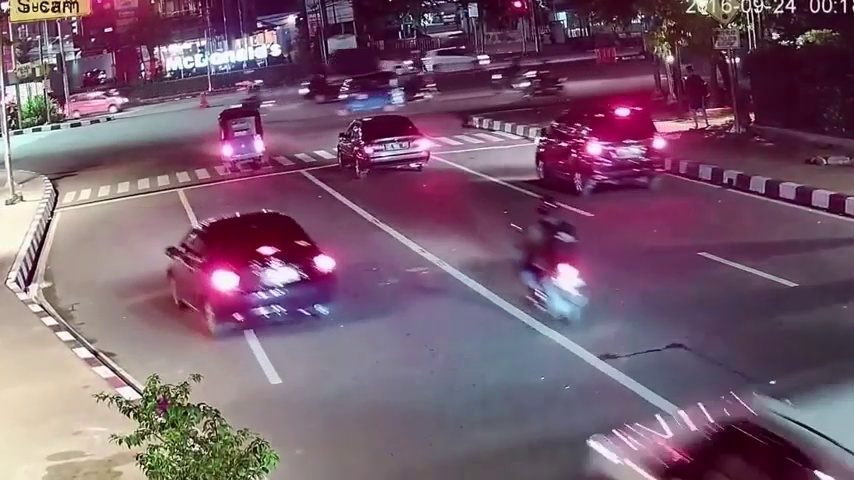car: (166, 208, 341, 339), (535, 107, 669, 201), (340, 116, 430, 180), (220, 108, 264, 168), (343, 73, 407, 113), (66, 92, 118, 117)
motorbike: (509, 195, 585, 328)
